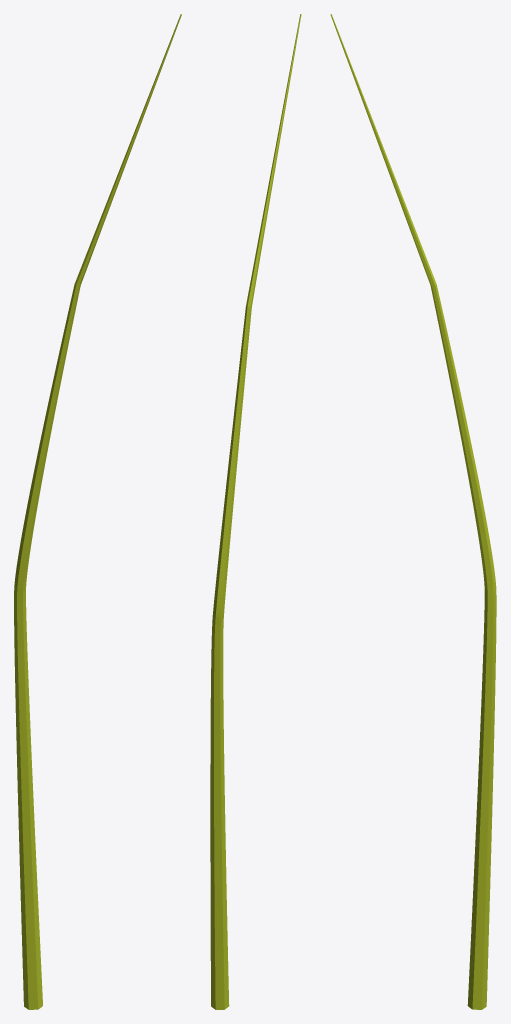
The model's file is Grashalm.dae.
3 views of the same model, side by side, from view 1: azimuth 90°, elevation 25°; view 2: azimuth 150°, elevation 25°; view 3: azimuth 270°, elevation 25° (orthographic). The views are drawn at different scales.
Parts seen in each view (by area): view 1: Sweep; view 2: Sweep; view 3: Sweep.
Boxes of the visible parts, x1,y1,x2,y2 form: Sweep: (14,14,181,1009); Sweep: (210,14,301,1009); Sweep: (330,14,496,1009).
Bounding box in the file's own units: 12.28 × 610 × 93.02.
